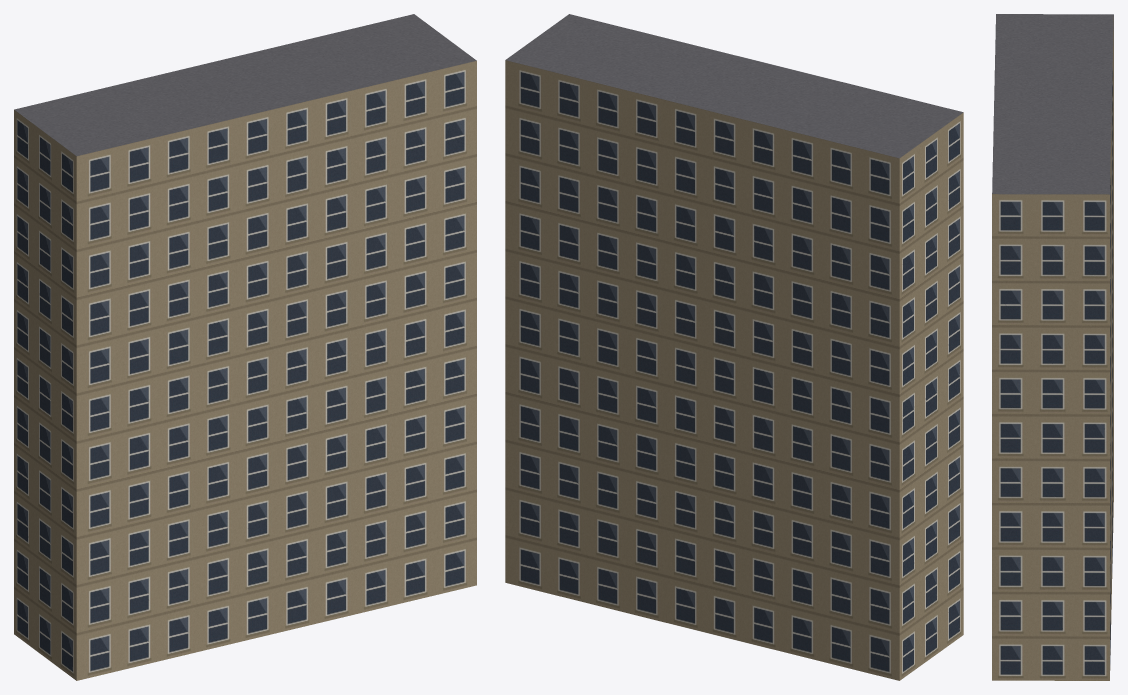
The model's file is bin1016195.glb.
3 views of the same model, side by side, from view 1: azimuth 30°, elevation 25°; view 2: azimuth 150°, elevation 25°; view 3: azimuth 270°, elevation 25° (orthographic). The views are drawn at different scales.
Parts seen in each view (by area): view 1: c2, c6, c3, c0, c4, c7, c1, c5, c15, c14, c12, c13 (+1 smaller); view 2: c2, c3, c0, c1, c14, c15, c12, c13, c10, c8, c11, c9 (+4 smaller); view 3: c14, c15, c12, c13, c3, c7, c11, c2, c10, c0, c1, c8 (+1 smaller).
Part boxes in pixels (<box>): c2: <box>14,211,208,416</box>; c6: <box>208,180,401,384</box>; c3: <box>14,73,211,257</box>; c0: <box>14,494,208,680</box>; c4: <box>208,463,401,649</box>; c7: <box>208,43,401,226</box>; c1: <box>14,370,208,540</box>; c5: <box>208,339,401,508</box>; c15: <box>290,14,476,179</box>; c14: <box>402,162,476,338</box>; c12: <box>402,445,476,603</box>; c13: <box>402,321,476,462</box>; c2: <box>750,213,963,417</box>; c3: <box>750,80,963,259</box>; c0: <box>750,495,963,680</box>; c1: <box>750,372,963,540</box>; c14: <box>505,161,627,349</box>; c15: <box>505,14,642,191</box>; c12: <box>505,443,627,612</box>; c13: <box>505,319,627,472</box>; c10: <box>661,200,749,380</box>; c8: <box>661,482,749,643</box>; c11: <box>661,86,800,221</box>; c9: <box>661,358,749,503</box>; c14: <box>992,248,1110,435</box>; c15: <box>992,138,1110,288</box>; c12: <box>992,510,1110,680</box>; c13: <box>992,395,1110,550</box>; c3: <box>994,14,1113,170</box>; c7: <box>993,73,1111,231</box>; c11: <box>1022,81,1112,216</box>; c2: <box>1112,110,1113,317</box>; c10: <box>1111,186,1112,363</box>; c0: <box>1112,372,1113,563</box>; c1: <box>1112,257,1113,432</box>; c8: <box>1111,449,1112,609</box>.
Size of the model in its own units: 30.49 by 38.32 by 8.69.
3 materials, 3 textured.
